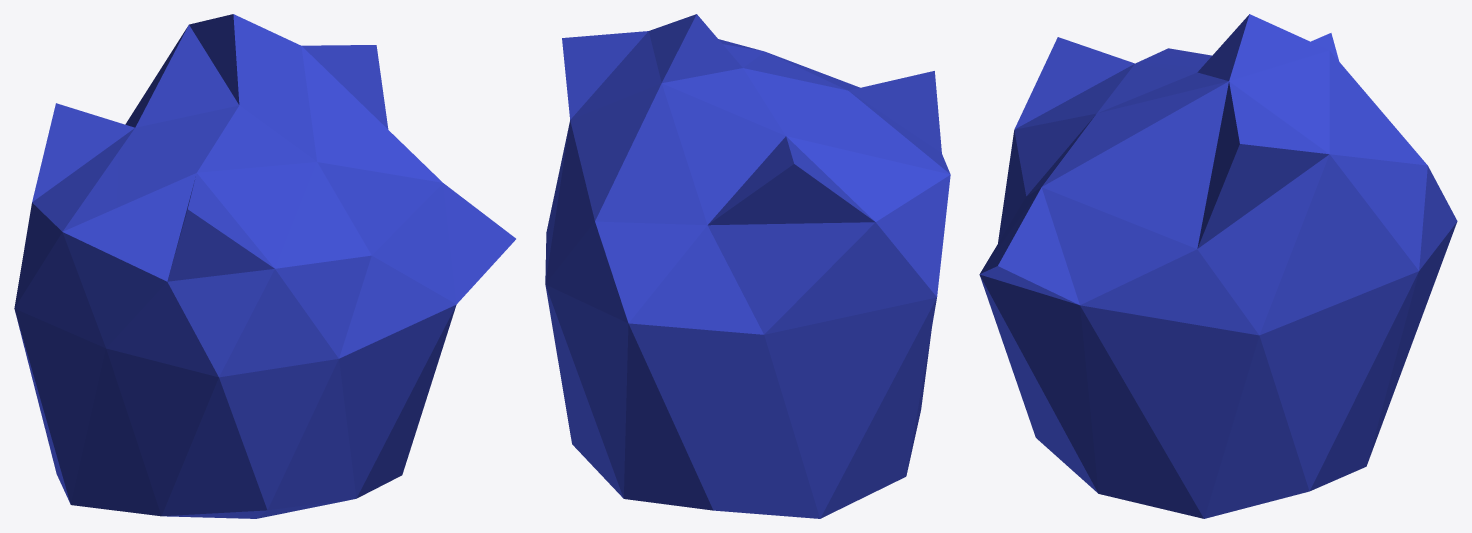
File: Ore_01.fbx
3 renders of one model, left to right at view 1: azimuth 30°, elevation 25°; view 2: azimuth 150°, elevation 25°; view 3: azimuth 270°, elevation 25°, orthographic.
Parts seen in each view (by area): view 1: Icosphere; view 2: Icosphere; view 3: Icosphere.
Boxes of the visible parts, bbox=[...] form: Icosphere: bbox=[14, 14, 515, 518]; Icosphere: bbox=[545, 14, 950, 518]; Icosphere: bbox=[979, 14, 1457, 518].
Size of the model in its own units: 224 by 256 by 238.
